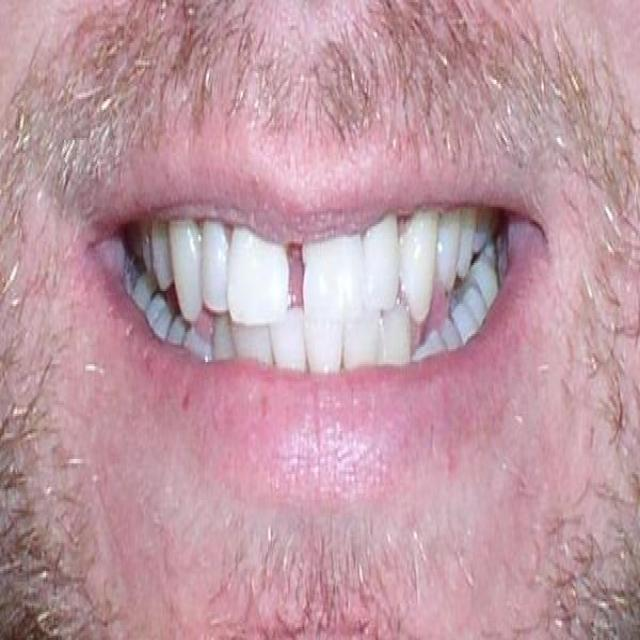tooth: (304, 239, 372, 317), (232, 235, 292, 319), (175, 213, 206, 315), (366, 228, 403, 304), (303, 312, 344, 380), (343, 317, 382, 381), (406, 222, 432, 312), (204, 222, 228, 312), (438, 202, 460, 298), (272, 319, 309, 375), (148, 215, 175, 282), (376, 317, 411, 368), (231, 319, 272, 362), (128, 218, 157, 276), (456, 200, 474, 274), (182, 329, 216, 368), (468, 209, 496, 254), (479, 250, 499, 310), (210, 312, 234, 360), (413, 323, 438, 364), (453, 304, 477, 342), (467, 284, 492, 319), (438, 314, 458, 354), (148, 280, 163, 332), (129, 269, 147, 304), (170, 317, 187, 349), (157, 304, 170, 340)
